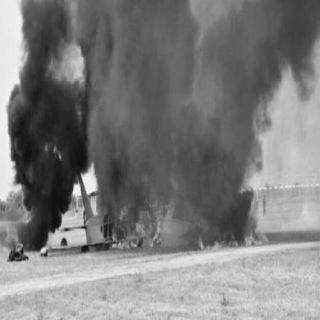Fire: (197, 220, 263, 250), (142, 194, 168, 250)
Smoke: (194, 4, 314, 210), (88, 0, 192, 202)
